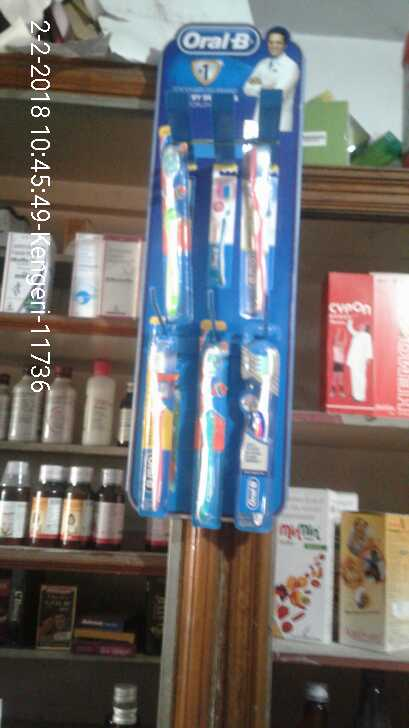oralb: (159, 127, 193, 317), (246, 348, 278, 529), (246, 152, 279, 315), (195, 333, 222, 528), (147, 326, 173, 515)
